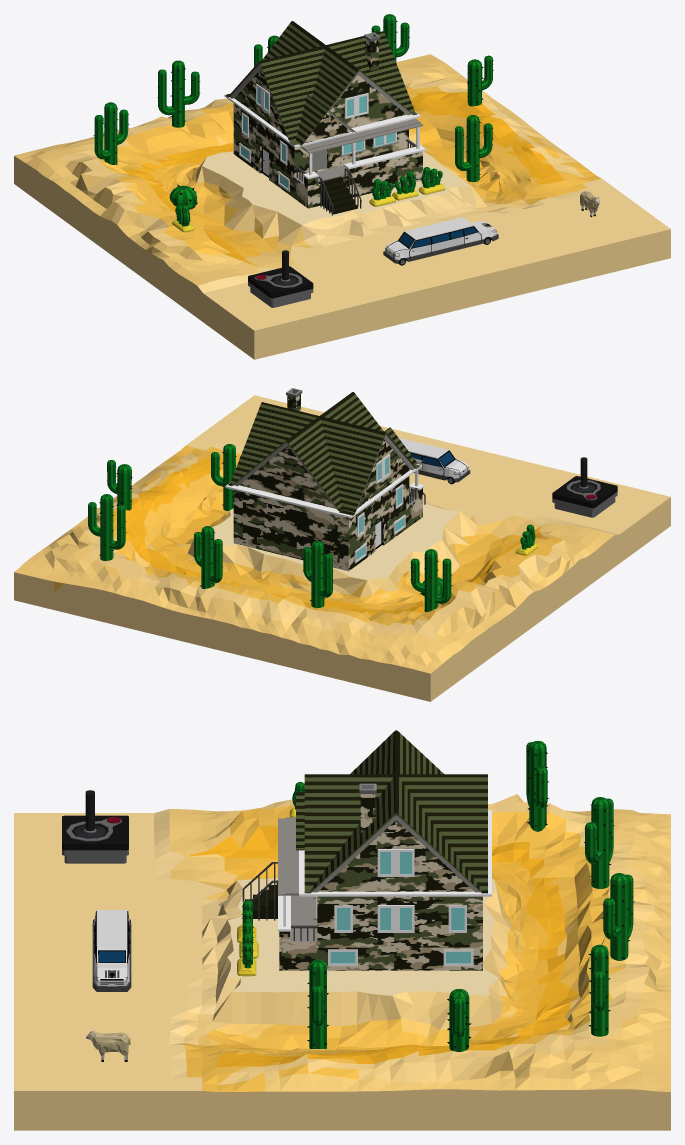
3 renders of one model, top to bottom at view 1: azimuth 30°, elevation 25°; view 2: azimuth 150°, elevation 25°; view 3: azimuth 270°, elevation 25°, orthographic. The views are drawn at different scales.
Parts seen in each view (by area): view 1: Cube.001, Cube.002, VEHICLES_LIMOUSINE, OBJRANDOM_JOYSTICK, Cylinder.037, Cylinder.044, Cylinder.045, Cylinder.038, Cylinder.042, Cylinder.039, Cylinder.041, Sphere.023 (+1 smaller); view 2: Cube.001, Cube.002, OBJRANDOM_JOYSTICK, Cylinder.042, VEHICLES_LIMOUSINE, Cylinder.045, Cylinder.044, Cylinder.043, Cylinder.037, Cylinder.038; view 3: Cube.001, Cube.002, OBJRANDOM_JOYSTICK, VEHICLES_LIMOUSINE, Cylinder.043, Cylinder.044, Cylinder.045, Cylinder.042, Cylinder.037, Cylinder.038, ANIMAL_OVEJA, Cylinder.041.
Part boxes in pixels (bbox=[...]): Cube.001: bbox=[14, 54, 670, 359]; Cube.002: bbox=[224, 21, 425, 215]; VEHICLES_LIMOUSINE: bbox=[383, 217, 498, 265]; OBJRANDOM_JOYSTICK: bbox=[248, 250, 313, 307]; Cylinder.037: bbox=[454, 115, 493, 182]; Cylinder.044: bbox=[157, 60, 200, 127]; Cylinder.045: bbox=[93, 102, 129, 164]; Cylinder.038: bbox=[467, 55, 493, 106]; Cylinder.042: bbox=[371, 14, 409, 62]; Cylinder.039: bbox=[369, 179, 395, 206]; Cylinder.041: bbox=[418, 167, 445, 194]; Sphere.023: bbox=[169, 184, 197, 209]; Cube.001: bbox=[14, 395, 670, 701]; Cube.002: bbox=[225, 388, 425, 571]; OBJRANDOM_JOYSTICK: bbox=[552, 457, 617, 517]; Cylinder.042: bbox=[88, 494, 126, 560]; VEHICLES_LIMOUSINE: bbox=[399, 438, 470, 484]; Cylinder.045: bbox=[410, 549, 452, 611]; Cylinder.044: bbox=[303, 540, 333, 607]; Cylinder.043: bbox=[193, 526, 222, 588]; Cylinder.037: bbox=[211, 444, 240, 510]; Cylinder.038: bbox=[107, 460, 132, 510]; Cube.001: bbox=[14, 794, 670, 1130]; Cube.002: bbox=[242, 730, 491, 970]; OBJRANDOM_JOYSTICK: bbox=[62, 790, 128, 863]; VEHICLES_LIMOUSINE: bbox=[92, 910, 131, 991]; Cylinder.043: bbox=[602, 873, 634, 960]; Cylinder.044: bbox=[584, 797, 614, 888]; Cylinder.045: bbox=[526, 741, 548, 831]; Cylinder.042: bbox=[588, 944, 610, 1036]; Cylinder.037: bbox=[307, 959, 328, 1048]; Cylinder.038: bbox=[447, 989, 471, 1051]; ANIMAL_OVEJA: bbox=[86, 1030, 130, 1061]; Cylinder.041: bbox=[237, 933, 256, 976].
Size of the model in its own units: 4002 by 1653 by 4001.
Materials: 37 (5 with a texture image).
